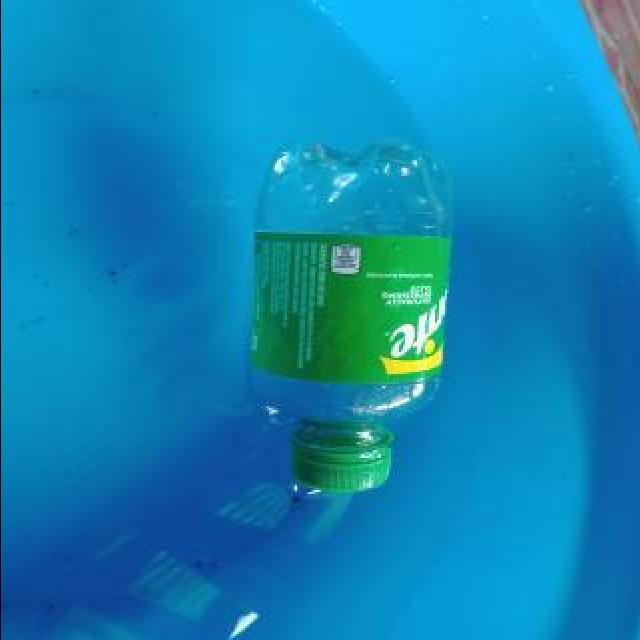Bottle: (233, 132, 465, 506)
